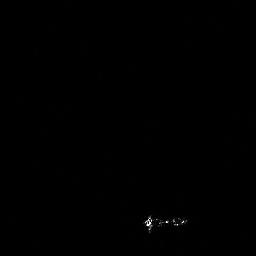ship: (143, 213, 189, 234)
